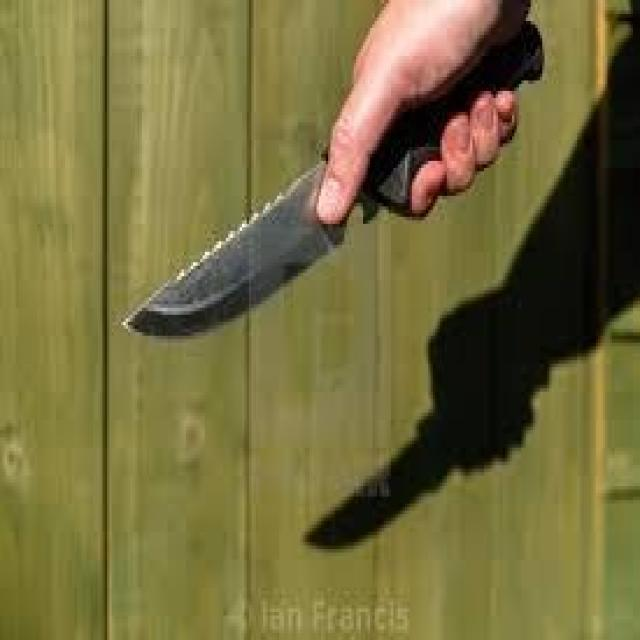senjata_tajam: (121, 21, 546, 341)
